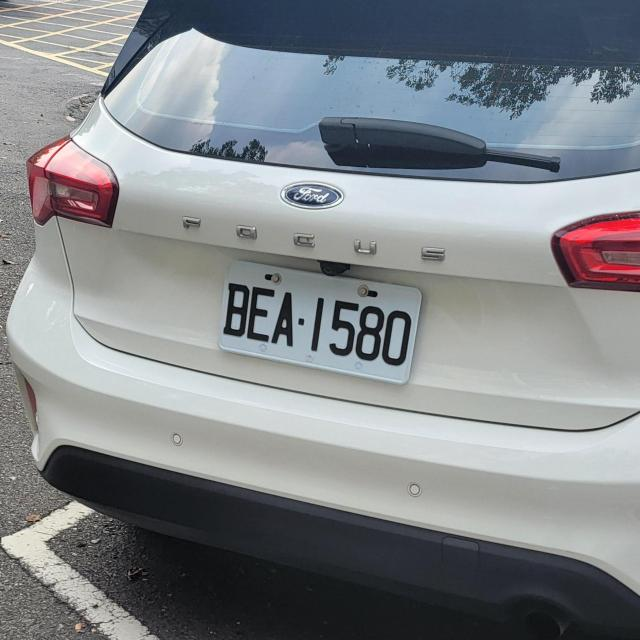W: (213, 257, 425, 385)
